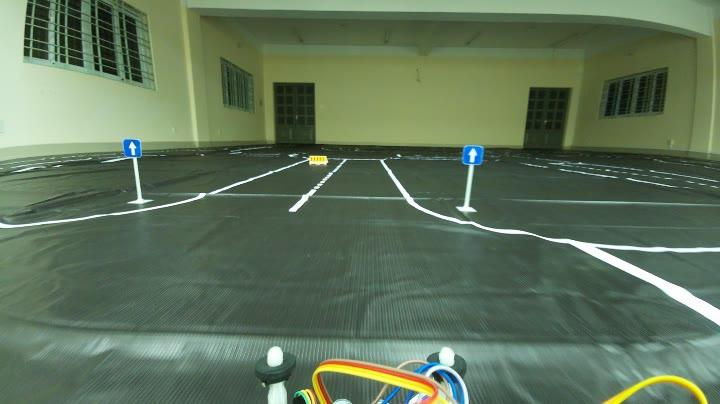onewayroad: (119, 136, 144, 164), (461, 141, 487, 167)
roadblock: (306, 152, 330, 166)
